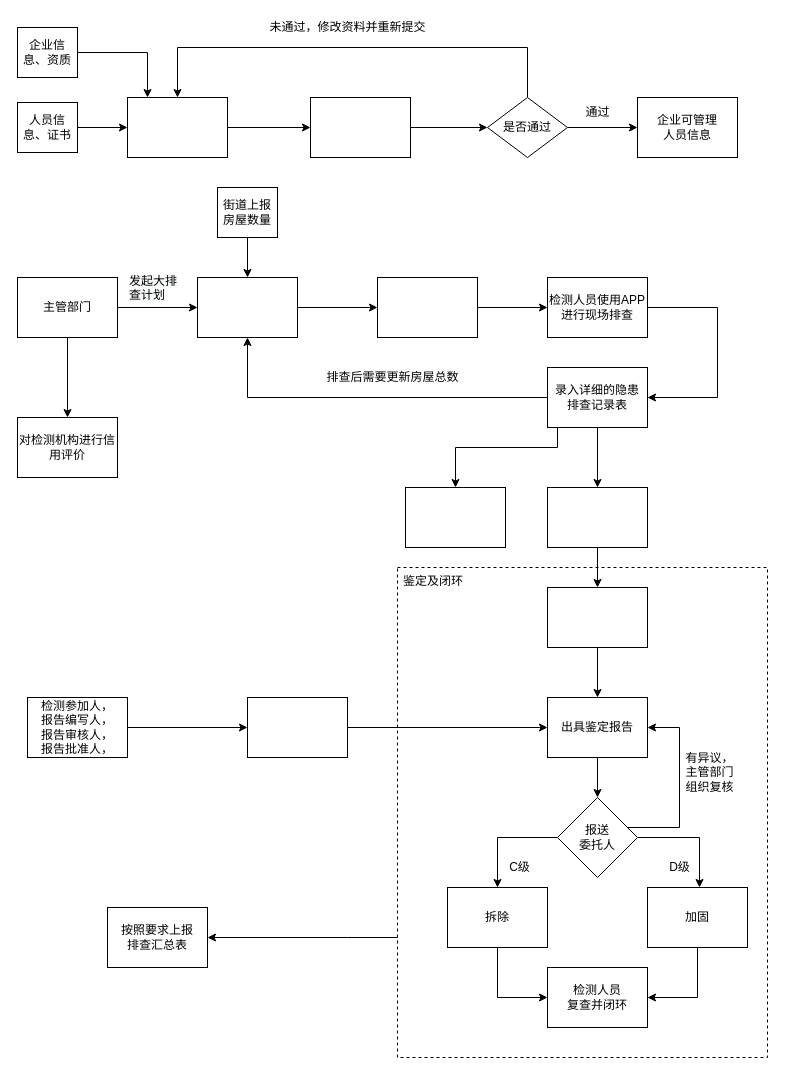
This 785x1077 diagram has some shape labels left out. The shapes that lost their labels are listed below. From the top down, each one's centre as x and y in pixels, then its label:
(177,127): 检测机构注册
(360,127): 主管部门审批
(247,307): 根据街道选定 房屋总数
(427,307): 选择检测机构
(455,517): A、B两级 只做记录
(597,517): C、D两级房屋
(597,617): 申请房屋鉴定
(297,727): 生成电子版报告（电子盖章）
